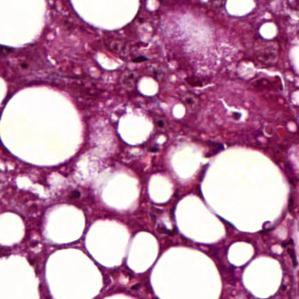steatosis: (68, 0, 140, 29), (228, 240, 254, 268)
